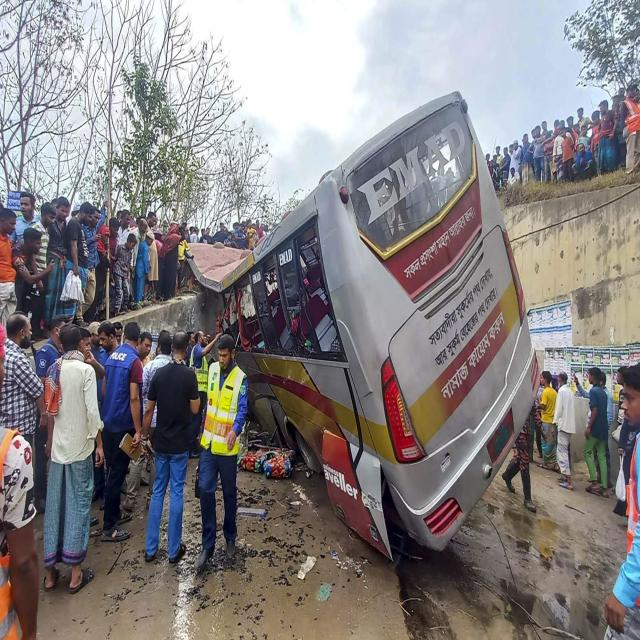Accident: (74, 75, 547, 618)
